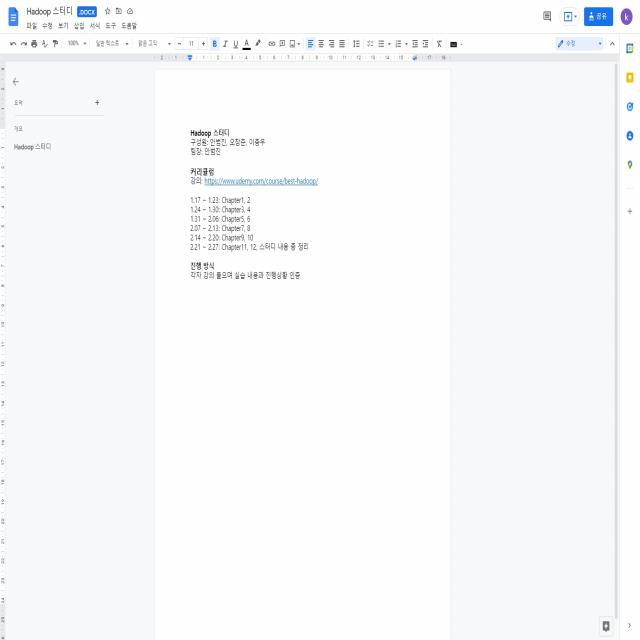menu-bar: (538, 3, 635, 29)
menu-panel: (7, 34, 467, 54), (25, 18, 139, 32)
side-panel: (8, 70, 110, 172), (620, 36, 640, 232)
